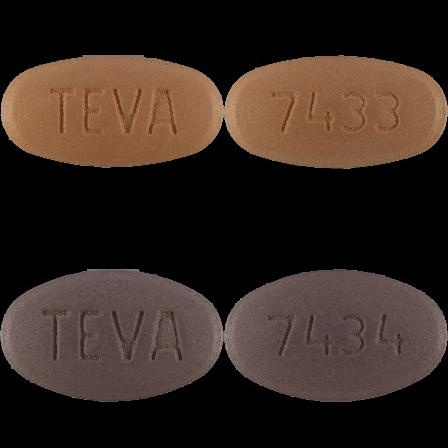54868-6452: (0, 0, 224, 224)
